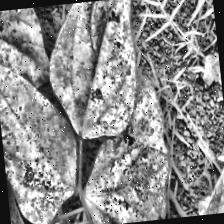Bean Rust: (71, 75, 178, 224), (40, 0, 150, 142), (0, 53, 83, 224), (0, 7, 50, 100)
